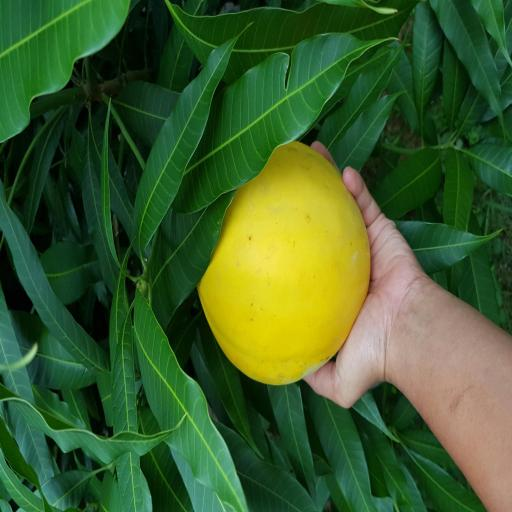Mango-Detection: (144, 56, 422, 464)
